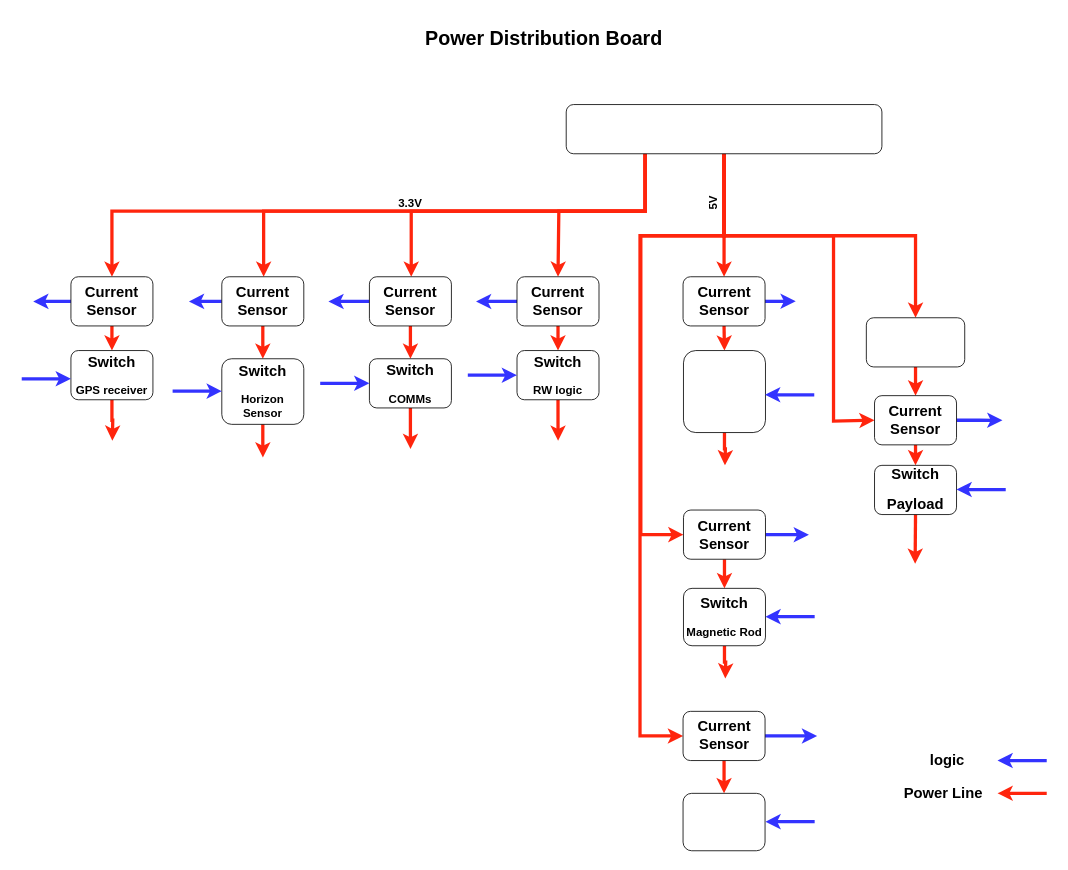
Image size: 1068x870. Some labels were removed from this diagram. Each missing label, with the centre of its shape:
Connector 26 pins: pixel 723 129
DC/DC StepUp: pixel 915 342
Switch RW: pixel 723 822
Switch StarTracker: pixel 724 391
